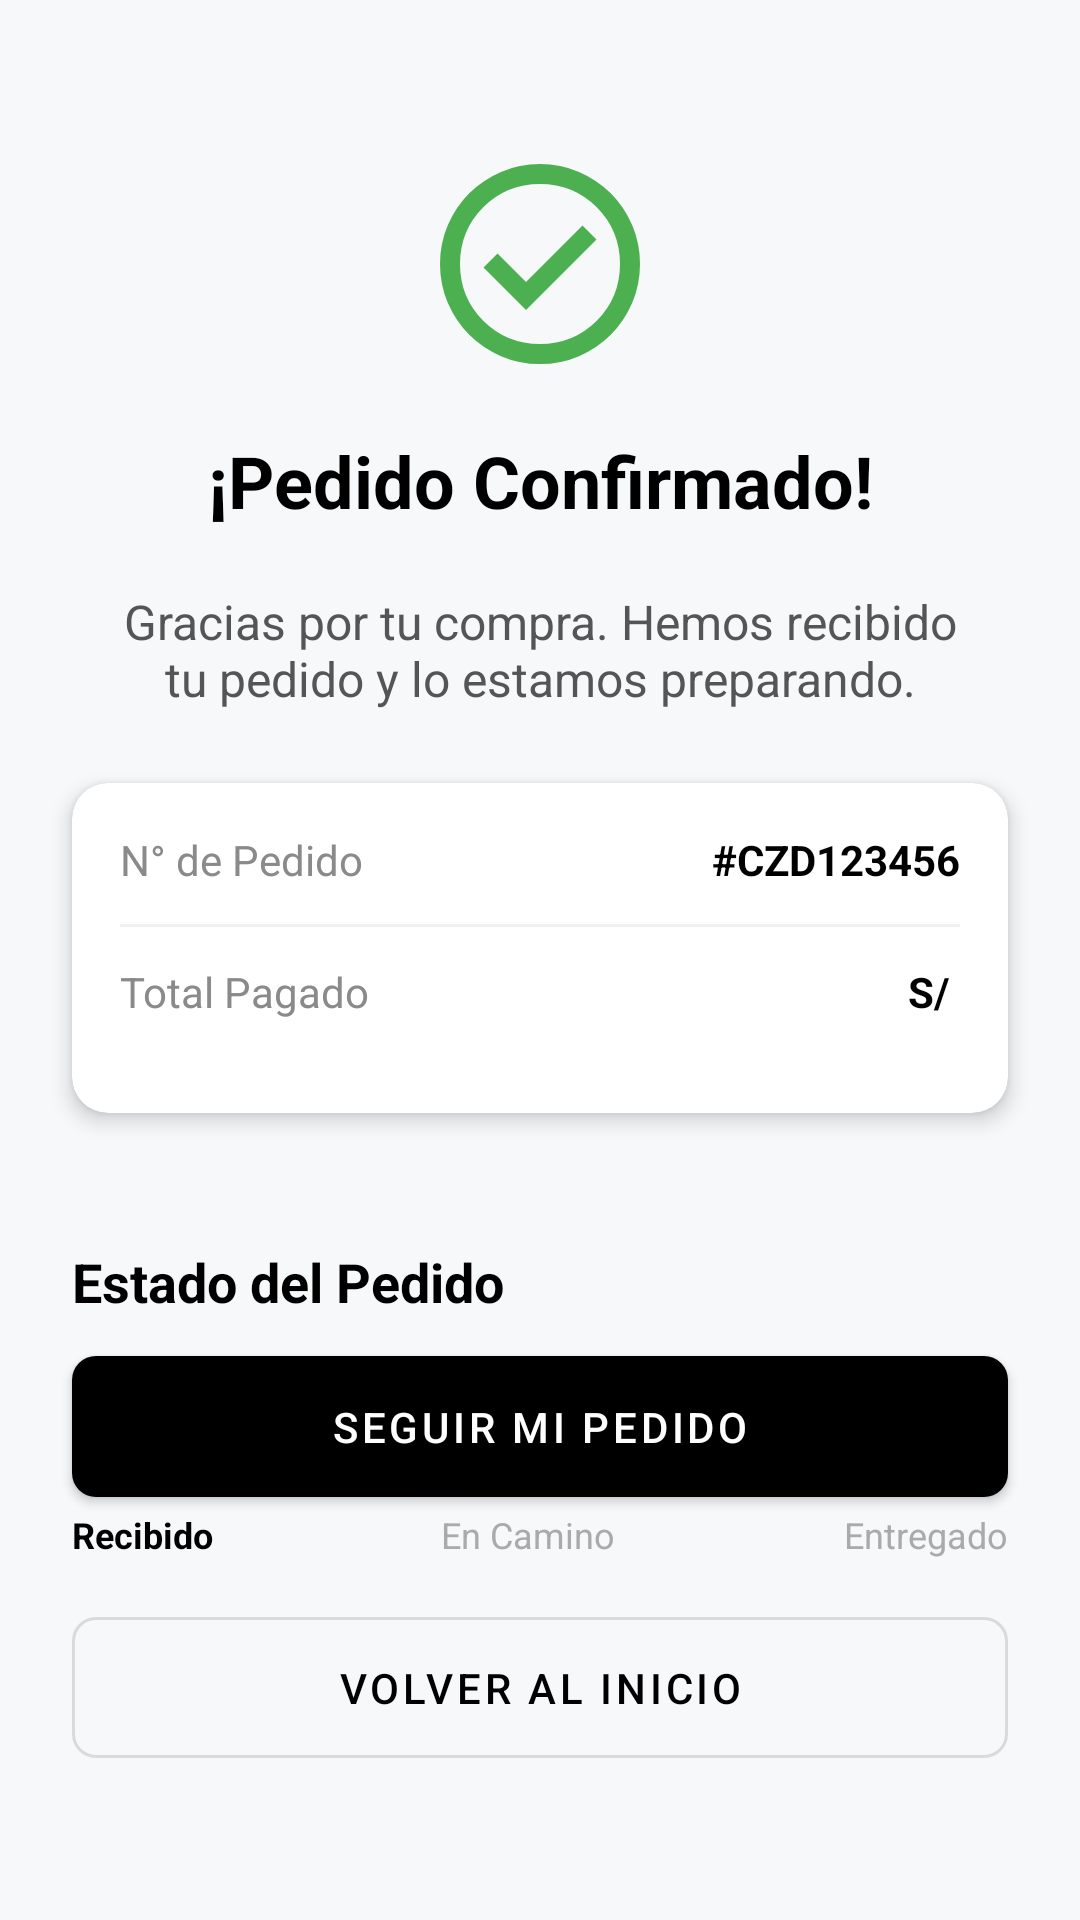

Icons on this 1080 × 1920 Android screen, each with its box as [x1, y1, x2, y2]:
success: [440, 164, 640, 364]
